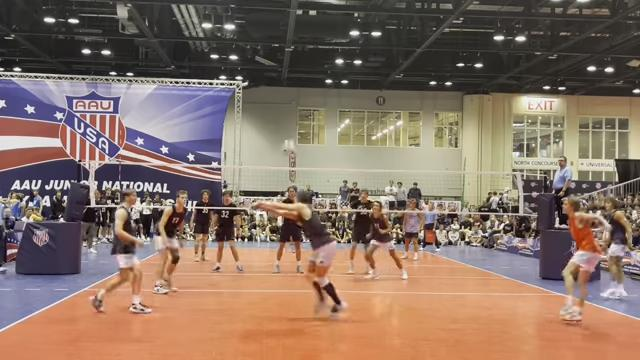ricezione: (251, 186, 352, 324)
